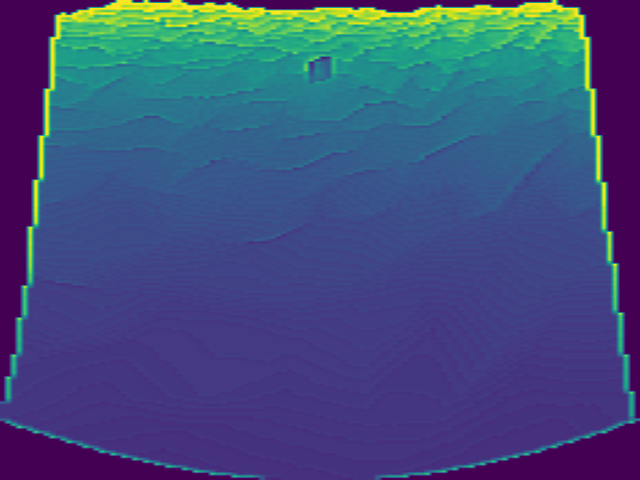car_0198: (305, 54, 334, 86)
